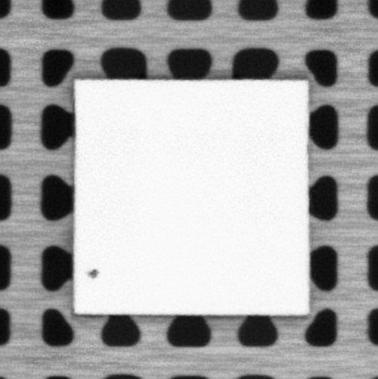DIE_INK: (86, 266, 100, 280)
